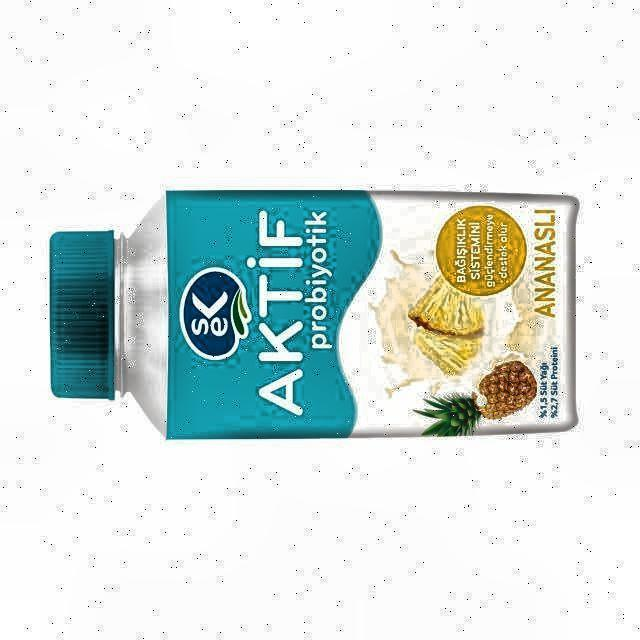plastic: (50, 190, 576, 439)
